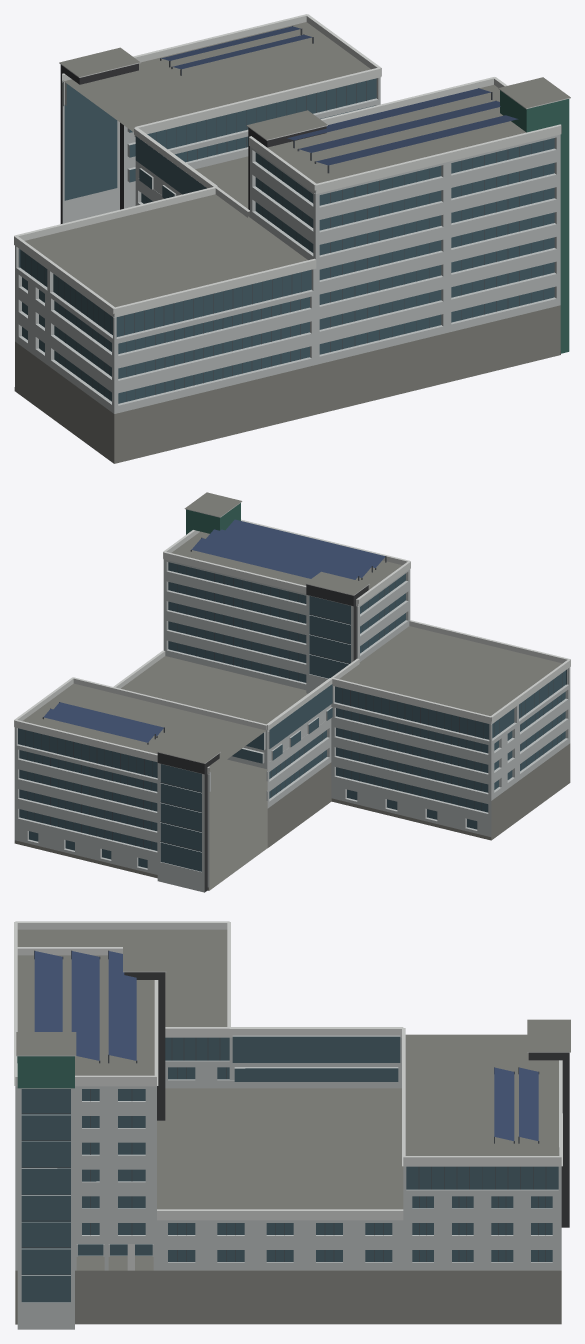
The picture shows the model from 3 angles, top to bottom: view 1: azimuth 30°, elevation 25°; view 2: azimuth 150°, elevation 25°; view 3: azimuth 270°, elevation 25°; orthographic projection. The views are drawn at different scales.
Parts seen in each view (by area): view 1: law__wall, law__glass, law__roof, law__base, law__trim, law__pv, law__frame, law__towerGlass, law__darkStone; view 2: law__wall, law__glass, law__roof, law__trim, law__pv, law__base, law__frame, law__darkStone, law__towerGlass; view 3: law__roof, law__wall, law__glass, law__base, law__trim, law__pv, law__darkStone, law__frame, law__towerGlass.
Part boxes in pixels (x1,y1,x2,y2): law__wall: [15, 77, 560, 413]; law__glass: [19, 78, 554, 403]; law__roof: [25, 22, 570, 314]; law__base: [14, 305, 560, 463]; law__trim: [14, 14, 570, 317]; law__pv: [161, 26, 518, 165]; law__frame: [25, 26, 543, 401]; law__towerGlass: [500, 90, 569, 353]; law__darkStone: [60, 63, 326, 223]; law__wall: [14, 559, 570, 892]; law__glass: [18, 562, 566, 871]; law__roof: [22, 492, 562, 890]; law__trim: [14, 501, 570, 774]; law__pv: [44, 519, 385, 742]; law__base: [14, 743, 570, 890]; law__frame: [25, 537, 562, 851]; law__darkStone: [157, 584, 368, 892]; law__towerGlass: [186, 503, 240, 534]; law__roof: [15, 929, 570, 1324]; law__wall: [15, 1035, 561, 1329]; law__glass: [21, 1036, 558, 1302]; law__base: [15, 1270, 561, 1324]; law__trim: [14, 921, 570, 1220]; law__pv: [34, 951, 538, 1140]; law__darkStone: [124, 972, 569, 1227]; law__frame: [21, 950, 546, 1274]; law__towerGlass: [17, 1056, 74, 1088].
Bounding box in the file's own units: 69.53 × 36.92 × 67.85.
